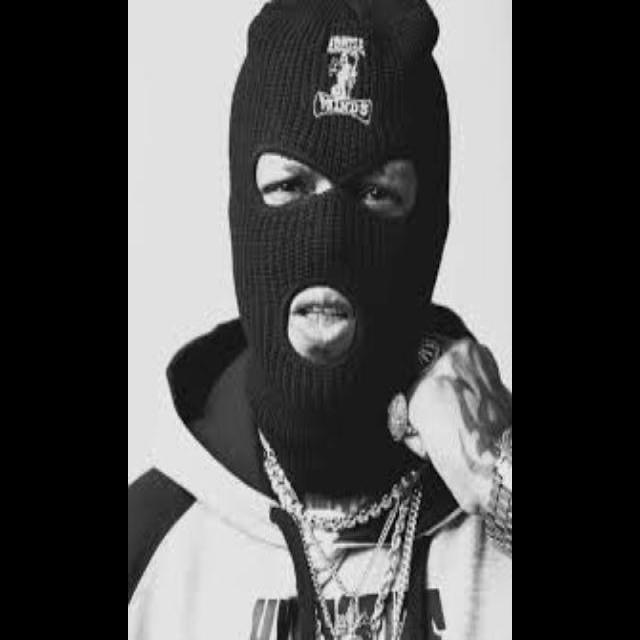6_pasamontana: (230, 3, 438, 473)
